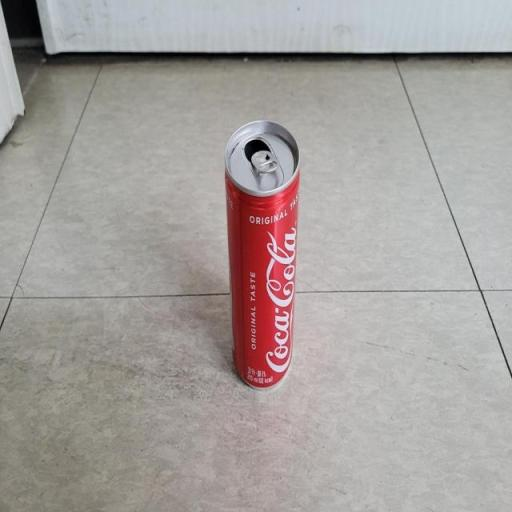metal: (213, 97, 310, 406)
